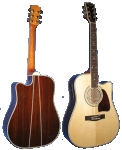guitar: (60, 1, 120, 148), (3, 4, 61, 149)
